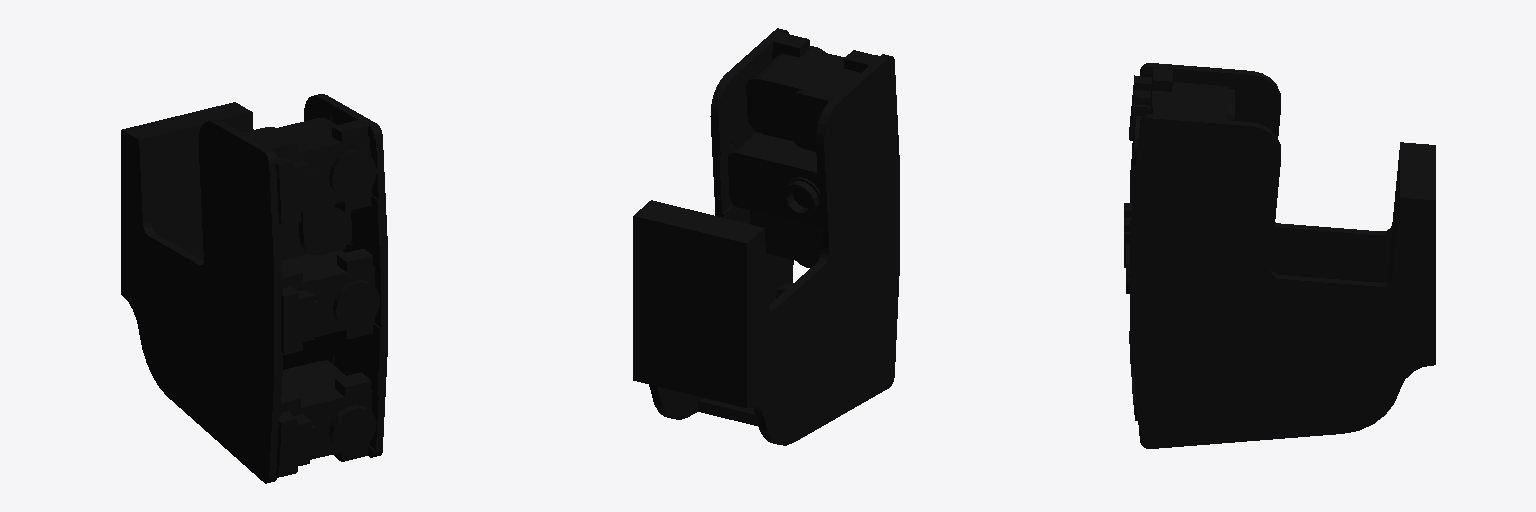
3 views of the same model, side by side, from view 1: azimuth 30°, elevation 25°; view 2: azimuth 150°, elevation 25°; view 3: azimuth 270°, elevation 25° (orthographic).
Visible parts, largest first — view 1: <STL_BINARY>; view 2: <STL_BINARY>; view 3: <STL_BINARY>.
Part boxes in pixels (x1,y1,x2,y2): <STL_BINARY>: (121, 94, 387, 483); <STL_BINARY>: (633, 28, 899, 445); <STL_BINARY>: (1124, 63, 1435, 448).
Bounding box in the file's own units: 0.0408 × 0.1135 × 0.0967.